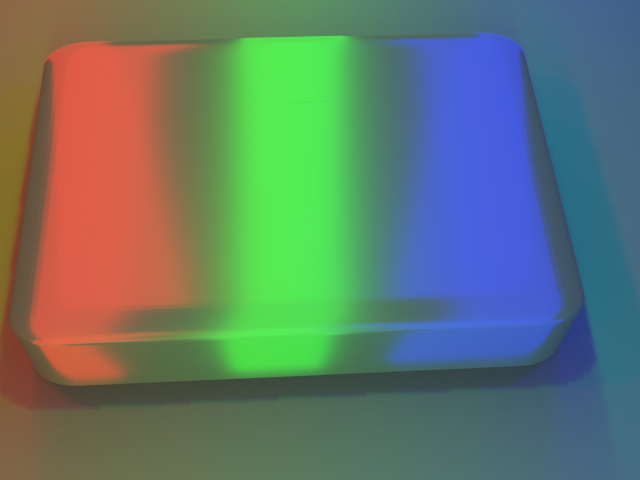scratch: (247, 54, 360, 116)
